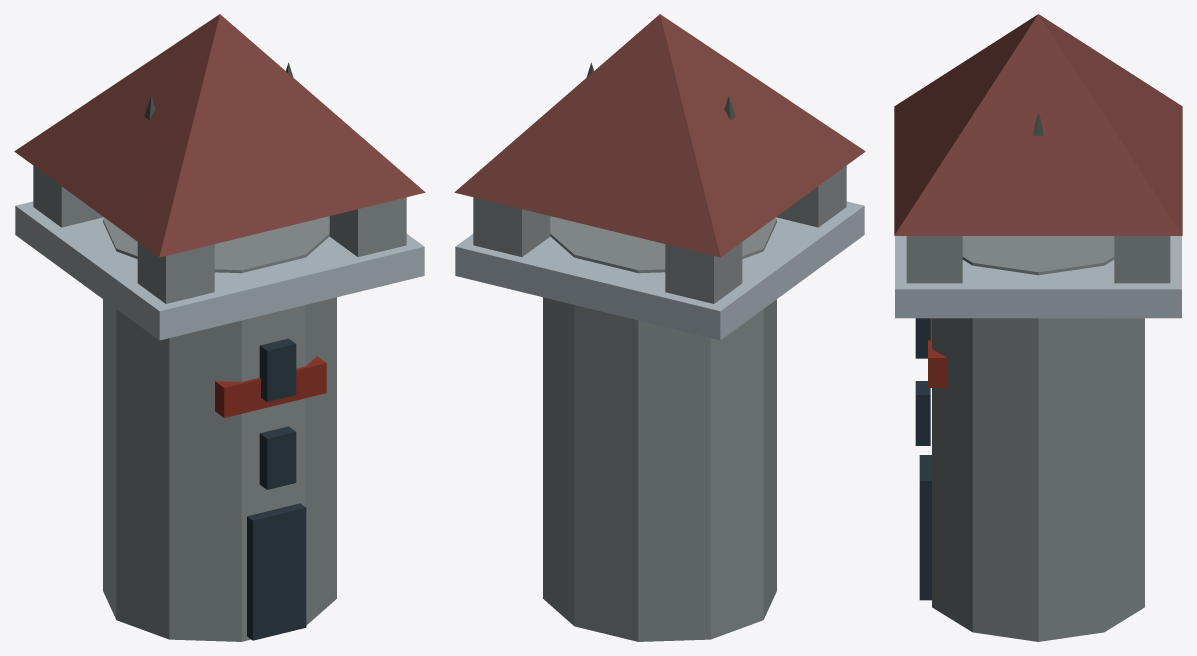
Rendered from tower.obj.
3 views of the same model, side by side, from view 1: azimuth 30°, elevation 25°; view 2: azimuth 150°, elevation 25°; view 3: azimuth 270°, elevation 25° (orthographic).
Visible parts, largest first — view 1: tower; view 2: tower; view 3: tower.
Part boxes in pixels (<box>): tower: <box>14,14,425,641</box>; tower: <box>454,14,865,641</box>; tower: <box>894,14,1182,641</box>.
Size of the model in its own units: 2.13 by 4.45 by 2.01.
